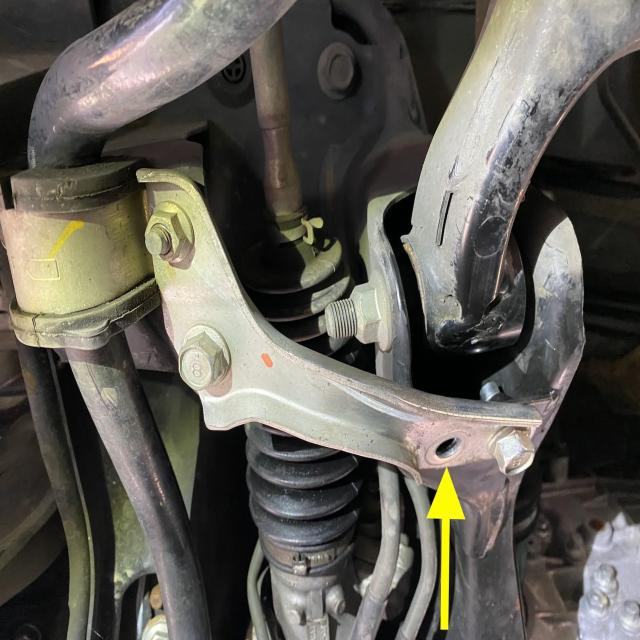Missing bolt: (433, 432, 466, 465)
Regular bolt: (180, 329, 229, 392), (146, 206, 193, 266), (349, 284, 389, 352), (492, 426, 538, 478), (320, 42, 359, 101)
